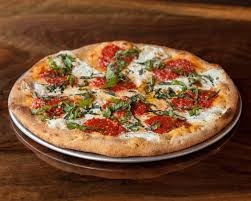pizza: (10, 40, 239, 150)
